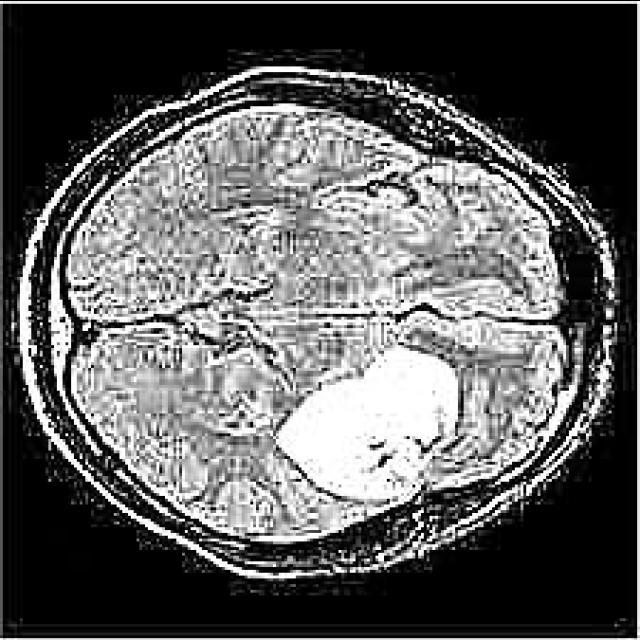tumor: (276, 341, 461, 506)
